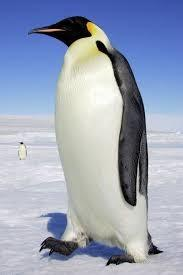emporer: (22, 11, 164, 275)
